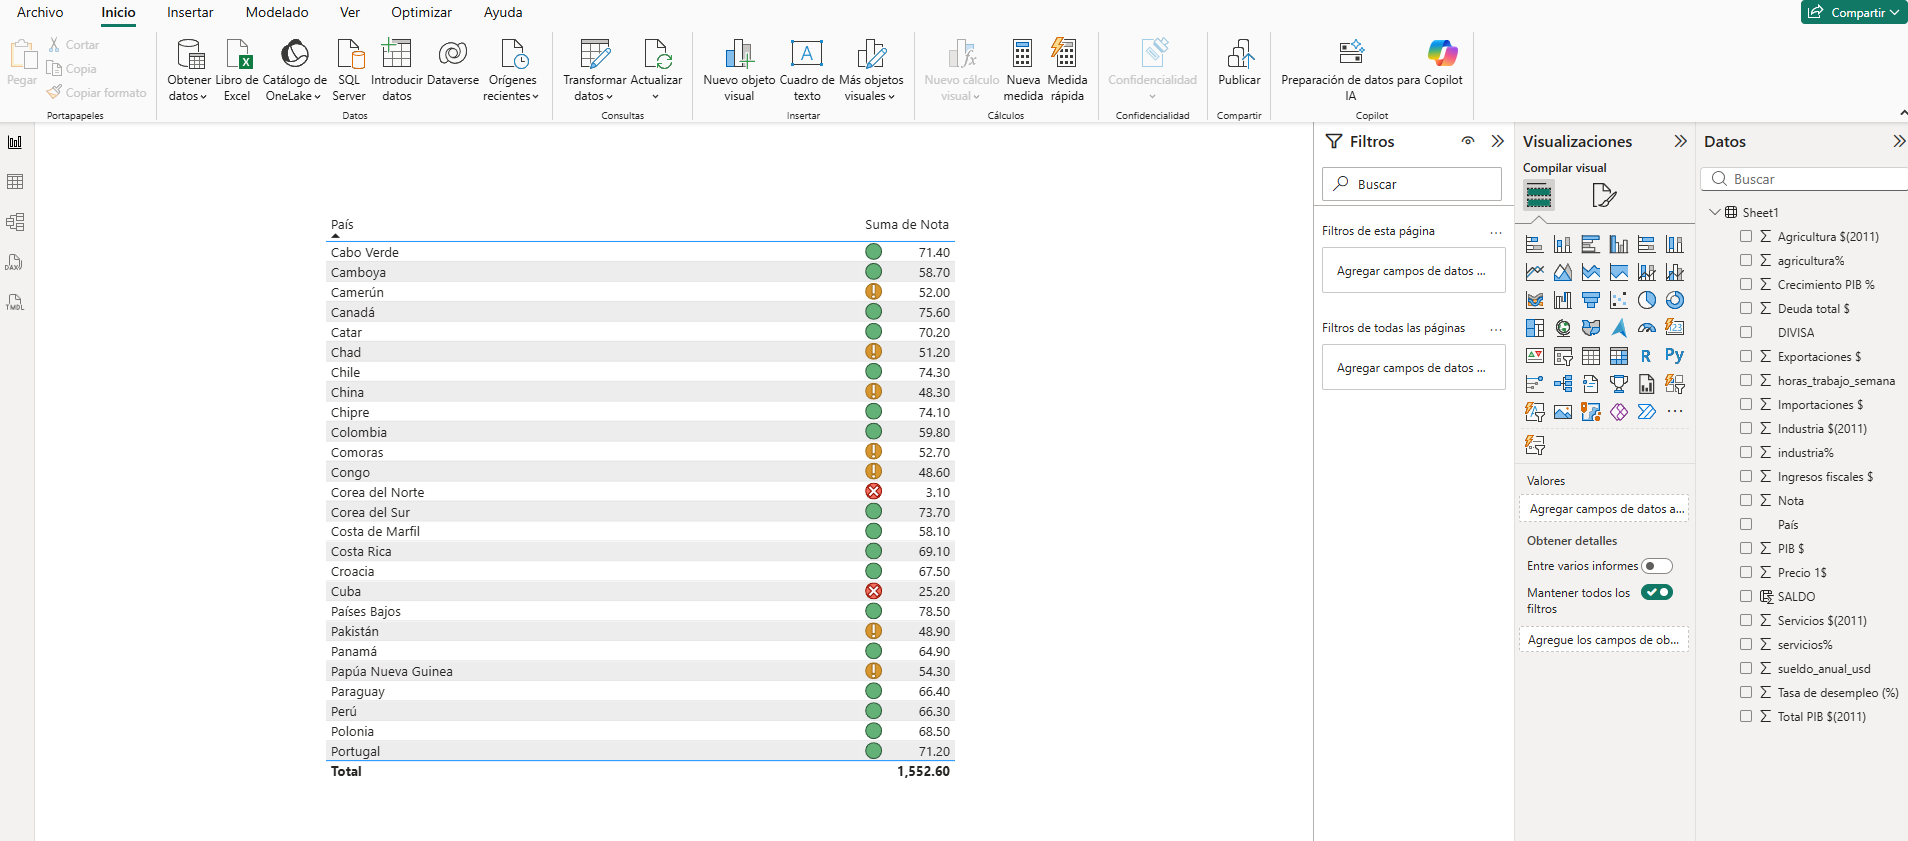

The page's visual inventory and layout, read from the dashboard file:
{"tool":"powerbi","page":{"name":"Página 3","canvas":[1280,720],"ordinal":2},"visuals":[{"type":"tableEx","fields":{"Values":["Sheet1.País","Sum(Sheet1.Nota)"]},"box":[285.4,87.6,669.2,590.3],"z":0}]}

Visuals, with their boxes on the page's 1280x720 design canvas (x1, y1, x2, y2). These are canvas units, not pixel positions in the 1908x841 screenshot, which may show the page scaled, cropped or inside an application window:
tableEx - Sheet1.País x Sum(Sheet1.Nota): x1=285, y1=88, x2=955, y2=678
